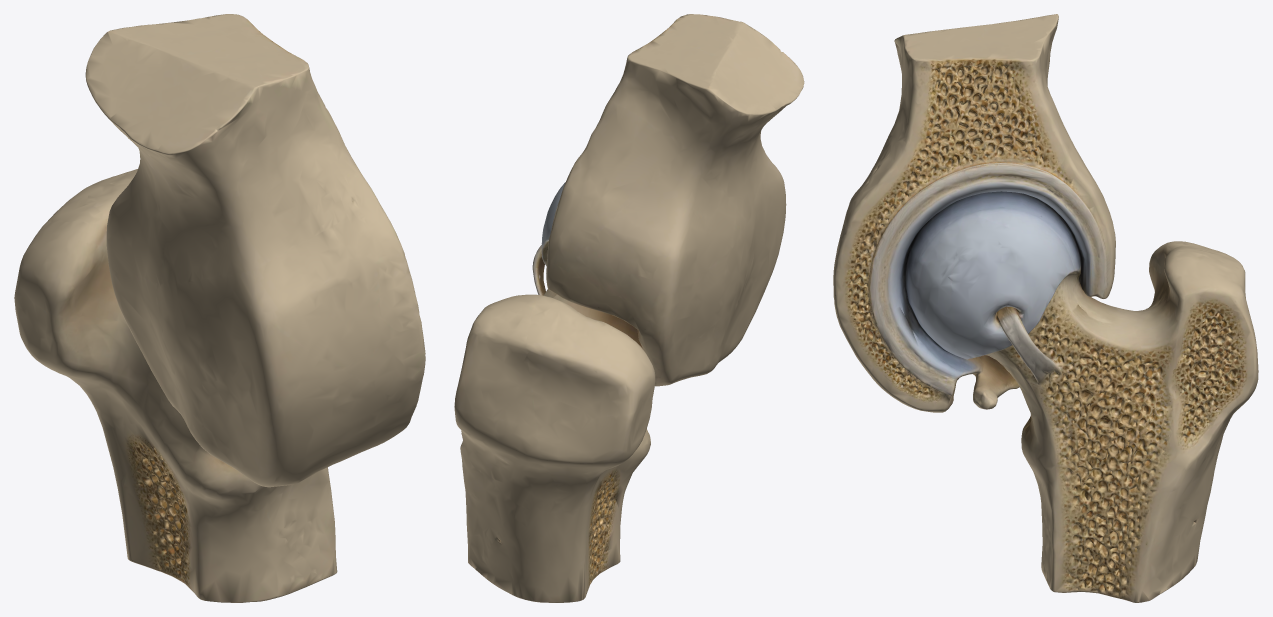
Rendered from hip.glb.
The picture shows the model from 3 angles, left to right: view 1: azimuth 30°, elevation 25°; view 2: azimuth 150°, elevation 25°; view 3: azimuth 270°, elevation 25°; orthographic projection. The views are drawn at different scales.
Parts seen in each view (by area): view 1: tripo_node_c29807df-ceca-486f-a154-aece28ae1bf4; view 2: tripo_node_c29807df-ceca-486f-a154-aece28ae1bf4; view 3: tripo_node_c29807df-ceca-486f-a154-aece28ae1bf4.
Part boxes in pixels (x1,y1,x2,y2): tripo_node_c29807df-ceca-486f-a154-aece28ae1bf4: (14,14,425,602); tripo_node_c29807df-ceca-486f-a154-aece28ae1bf4: (454,14,804,602); tripo_node_c29807df-ceca-486f-a154-aece28ae1bf4: (833,14,1258,602).
Size of the model in its own units: 0.4993 by 0.9999 by 0.7836.
Materials: 1 (1 with a texture image).
